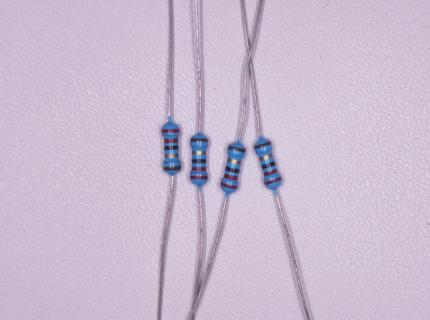Black band: (261, 161, 276, 170), (225, 166, 240, 174), (192, 158, 207, 164), (164, 145, 179, 150)
Brown band: (227, 145, 246, 153), (254, 141, 272, 149), (190, 137, 209, 143), (163, 166, 182, 171)
Gold band: (227, 157, 242, 165), (258, 154, 274, 161), (164, 153, 179, 158), (192, 151, 206, 155)
Red band: (264, 176, 283, 186), (220, 182, 238, 190), (223, 173, 239, 181), (263, 169, 278, 177), (190, 175, 208, 180), (161, 129, 180, 133), (191, 166, 206, 171), (164, 138, 178, 143)
